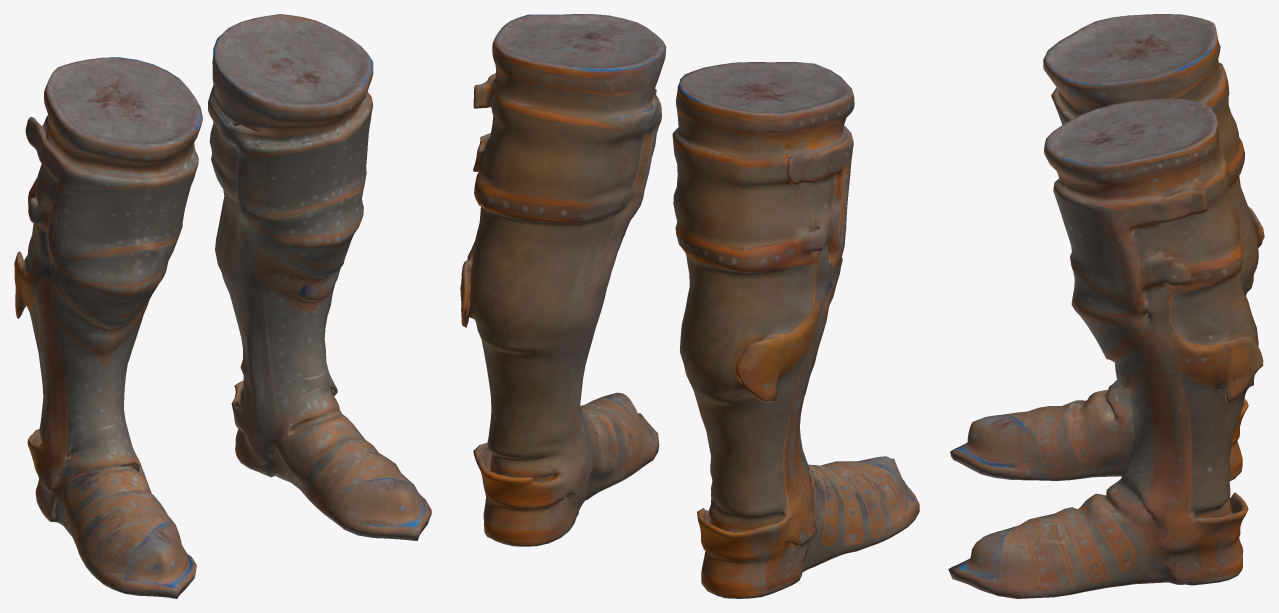
Rendered from Studded Leather Legs.glb.
3 renders of one model, left to right at view 1: azimuth 30°, elevation 25°; view 2: azimuth 150°, elevation 25°; view 3: azimuth 270°, elevation 25°, orthographic. The views are drawn at different scales.
Parts seen in each view (by area): view 1: file1; view 2: file1; view 3: file1.
Boxes of the visible parts, left/top/right/bottom form: file1: left=14, top=14, right=431, bottom=598; file1: left=460, top=14, right=919, bottom=598; file1: left=948, top=14, right=1264, bottom=598.
Size of the model in its own units: 1.54 by 2 by 1.29.
1 material, 1 textured.
